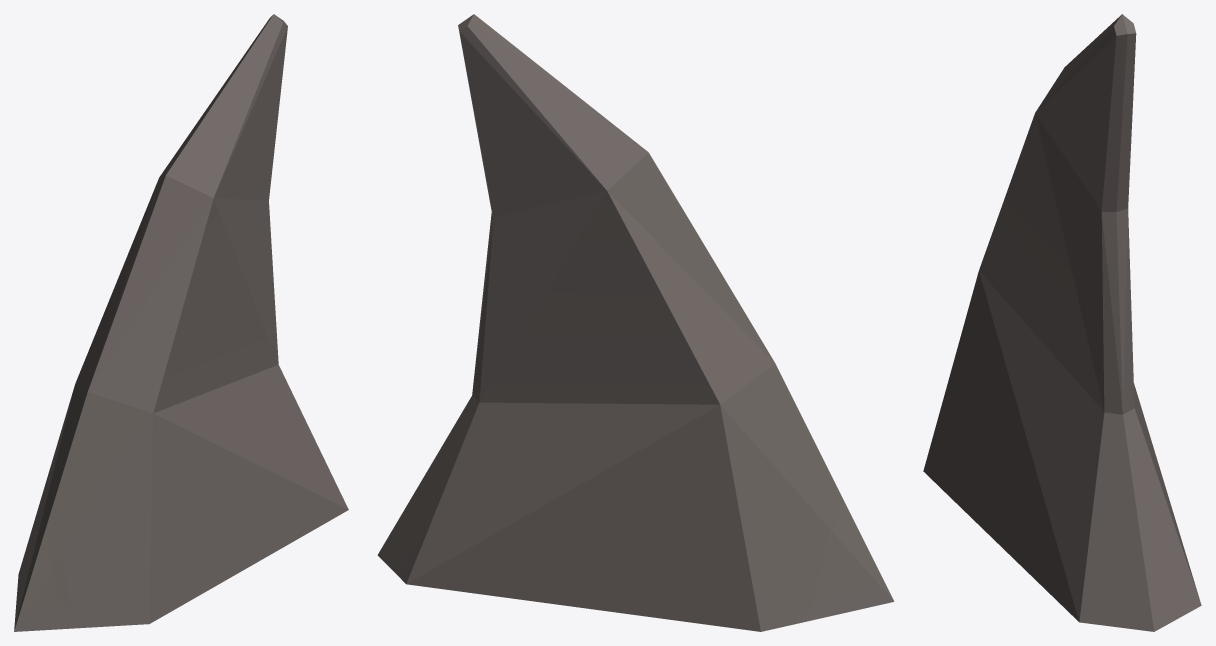
Rendered from sharks.fbx.
3 views of the same model, side by side, from view 1: azimuth 30°, elevation 25°; view 2: azimuth 150°, elevation 25°; view 3: azimuth 270°, elevation 25° (orthographic). The views are drawn at different scales.
Parts seen in each view (by area): view 1: sharks; view 2: sharks; view 3: sharks.
Part boxes in pixels (x1,y1,x2,y2): sharks: (14,14,348,631); sharks: (377,14,894,631); sharks: (923,14,1201,631).
Size of the model in its own units: 1.35 by 1.63 by 0.7129.
